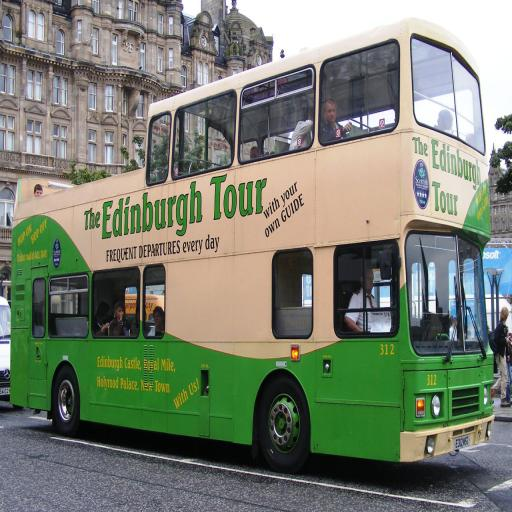bus: (7, 14, 496, 478)
